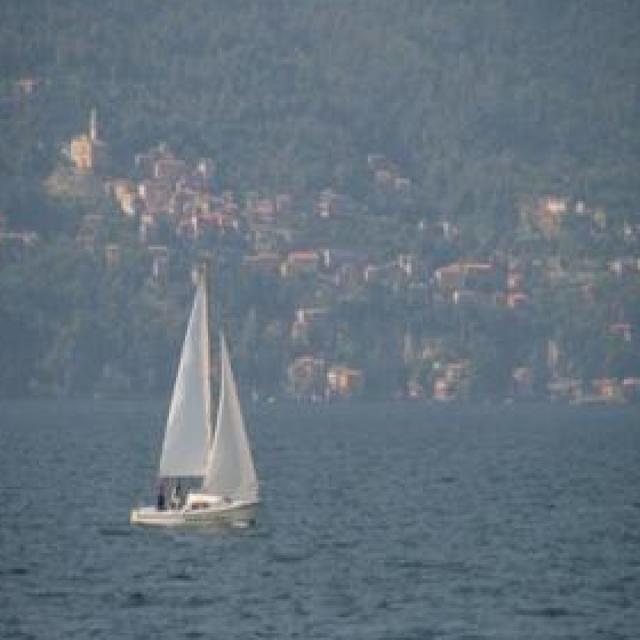sailboat: (132, 258, 264, 532)
